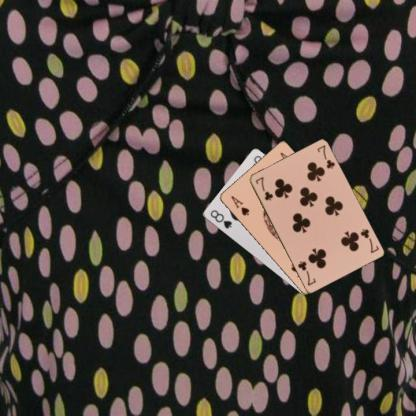7c: (252, 174, 274, 202), (358, 226, 380, 254)
8s: (207, 207, 233, 230)
As: (228, 193, 250, 217)
